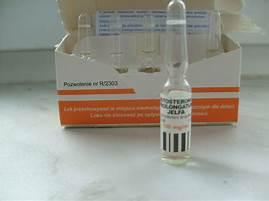Syringe: (158, 0, 198, 168)
